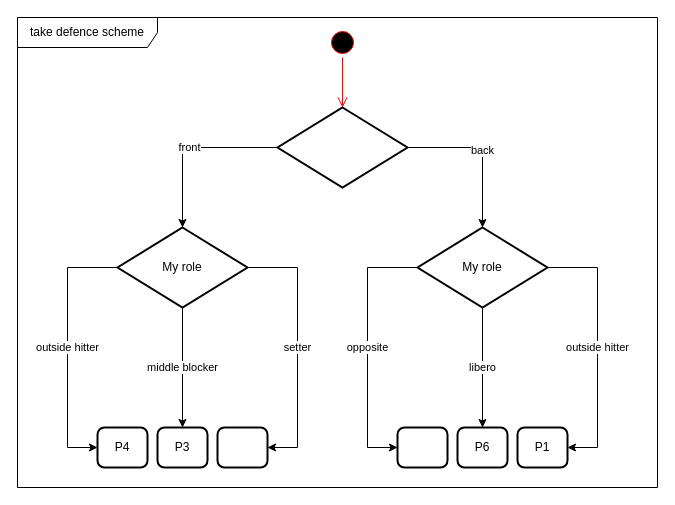
The diagram is 675 pixels wide and 505 high, and some of its shapes have lost their labels. Here are the shapes that lost their labels. From the top down, the centre of each, then its label:
At point 342,147: "My court".
At point 242,447: "P2".
At point 422,447: "P5".
